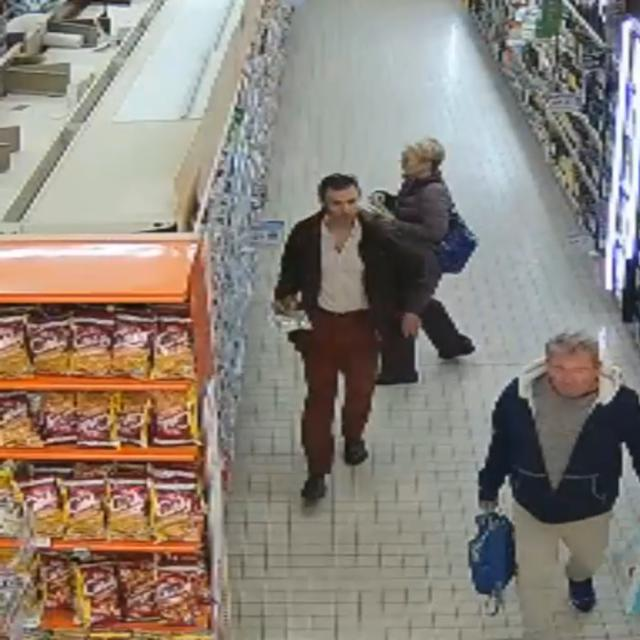article: (272, 311, 311, 332)
bags: (468, 512, 515, 615), (436, 203, 478, 274), (437, 207, 477, 274), (612, 534, 639, 615)
hands: (402, 313, 421, 337), (273, 296, 297, 315), (479, 501, 497, 514)
person: (275, 174, 438, 503), (479, 333, 639, 639), (388, 139, 455, 247)
